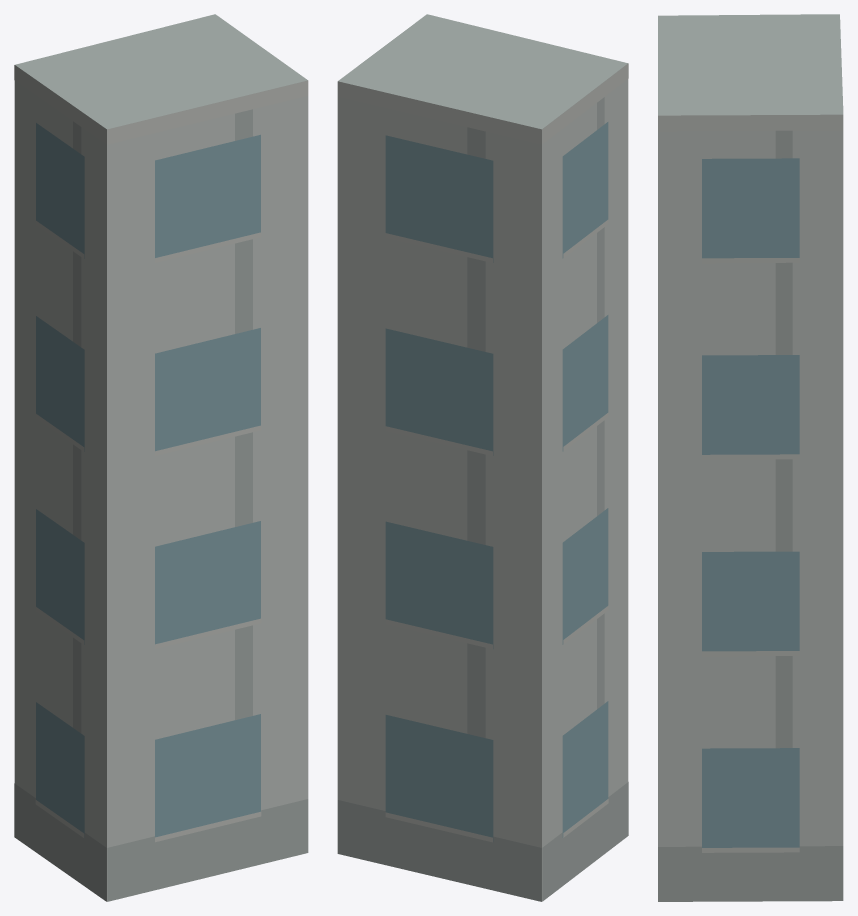
Rendered from survey-upis-32623378.glb.
3 renders of one model, left to right at view 1: azimuth 30°, elevation 25°; view 2: azimuth 150°, elevation 25°; view 3: azimuth 270°, elevation 25°, orthographic.
Visible parts, largest first — view 1: survey-upis-32623378.tmp; view 2: survey-upis-32623378.tmp; view 3: survey-upis-32623378.tmp.
Part boxes in pixels (box(x1,y1,x2,y2)): survey-upis-32623378.tmp: box(14, 14, 308, 901); survey-upis-32623378.tmp: box(337, 14, 628, 901); survey-upis-32623378.tmp: box(658, 14, 843, 901).
Bounding box in the file's own units: 3.39 × 12.2 × 2.63.
